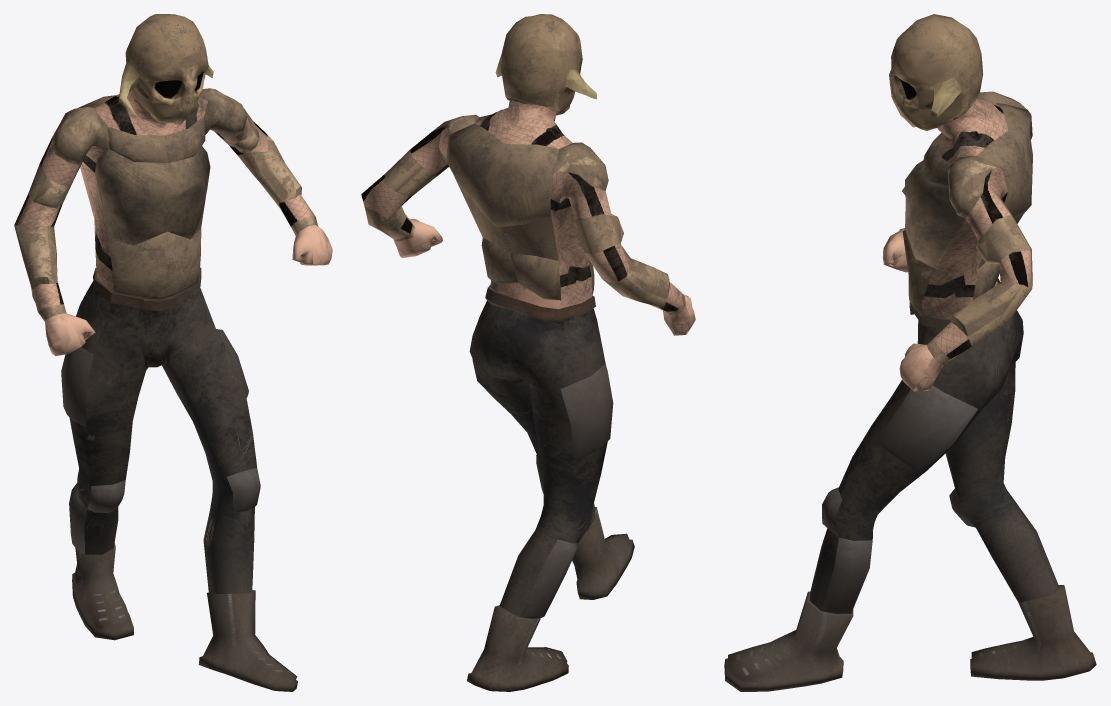
File: Anim_ataque_f1_npc1.0013.obj
The picture shows the model from 3 angles, left to right: view 1: azimuth 30°, elevation 25°; view 2: azimuth 150°, elevation 25°; view 3: azimuth 270°, elevation 25°; orthographic projection. The views are drawn at different scales.
Parts seen in each view (by area): view 1: NPC2; view 2: NPC2; view 3: NPC2.
Boxes of the visible parts, left/top/right/bottom form: NPC2: left=14, top=14, right=332, bottom=691; NPC2: left=361, top=14, right=695, bottom=691; NPC2: left=724, top=14, right=1096, bottom=691.
Size of the model in its own units: 4.48 by 9.28 by 4.69.
